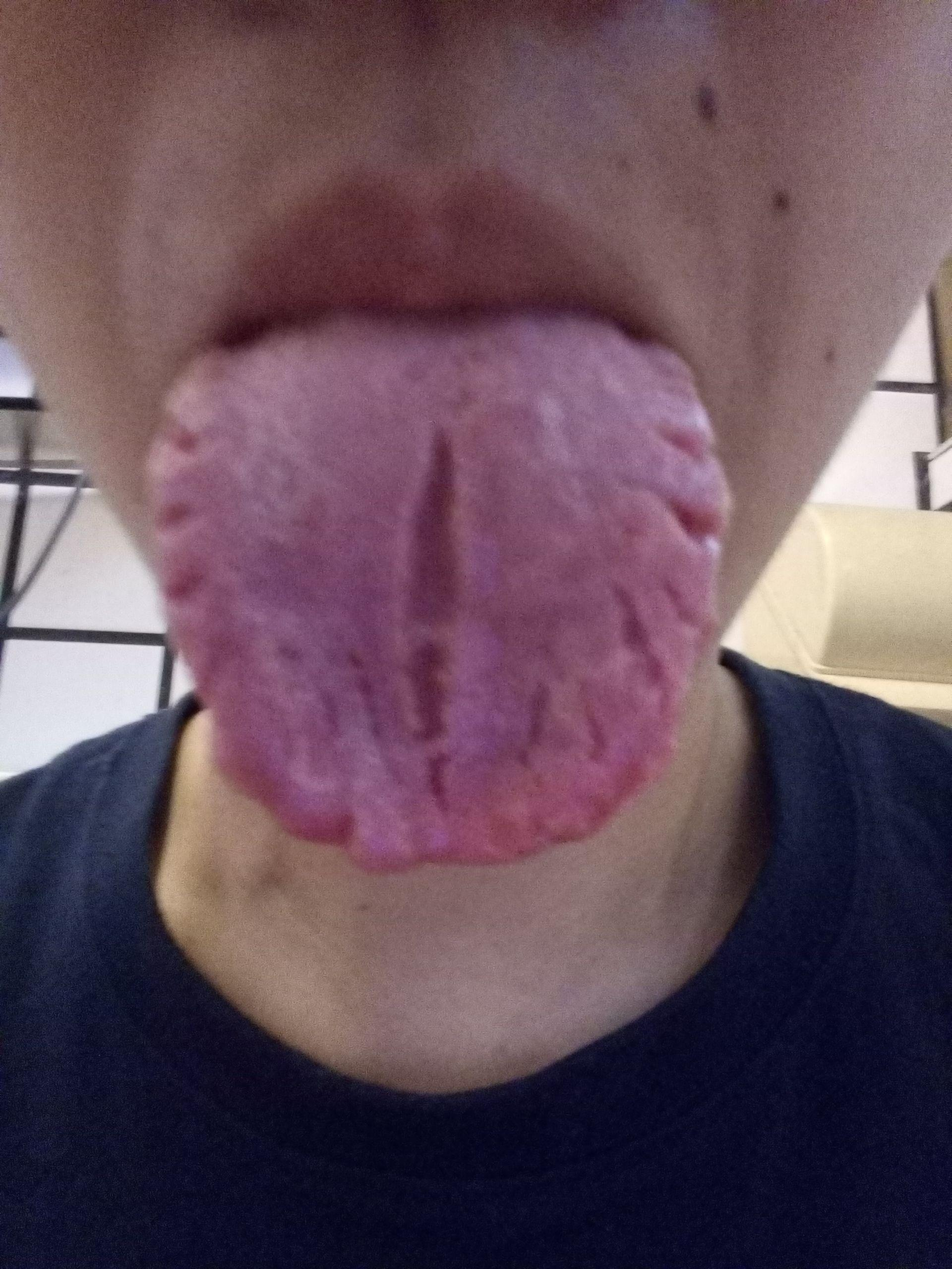liewenshe: (602, 416, 732, 700), (387, 416, 470, 811)
pangdashe: (147, 315, 735, 873)
